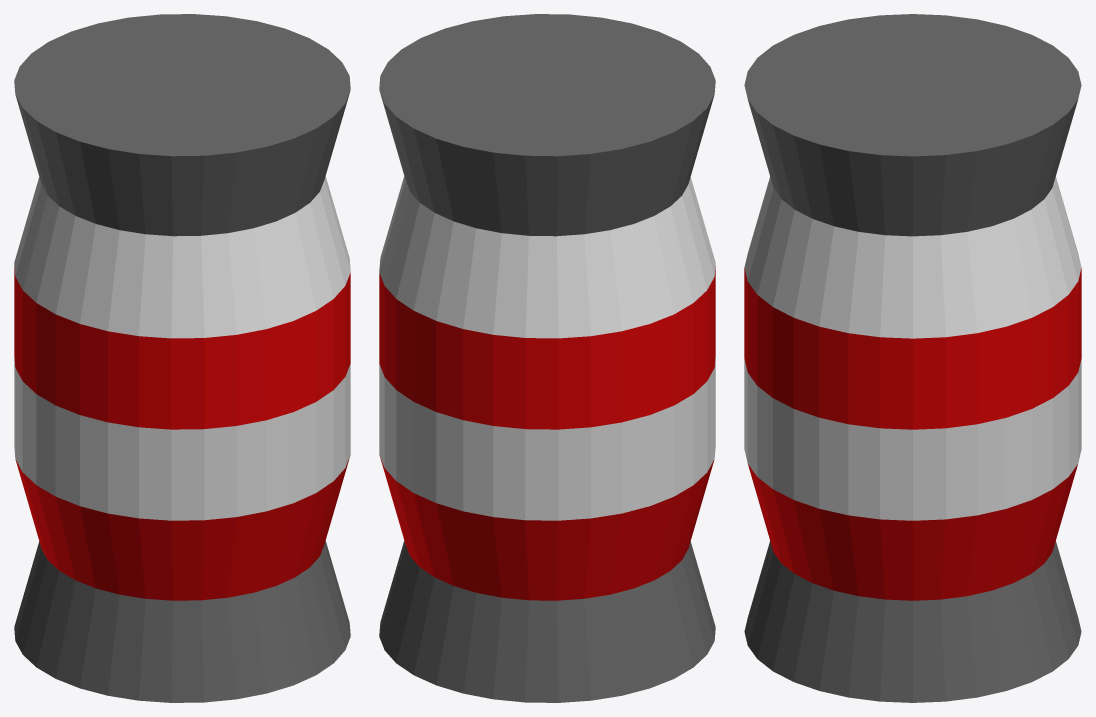
Rendered from Battery.fbx.
3 views of the same model, side by side, from view 1: azimuth 30°, elevation 25°; view 2: azimuth 150°, elevation 25°; view 3: azimuth 270°, elevation 25° (orthographic).
Parts seen in each view (by area): view 1: Cube.007; view 2: Cube.007; view 3: Cube.007.
Part boxes in pixels (<box>): Cube.007: <box>14,14,350,702</box>; Cube.007: <box>379,14,715,702</box>; Cube.007: <box>744,14,1081,702</box>.
Bounding box in the file's own units: 0.7606 × 1.36 × 0.7606.
